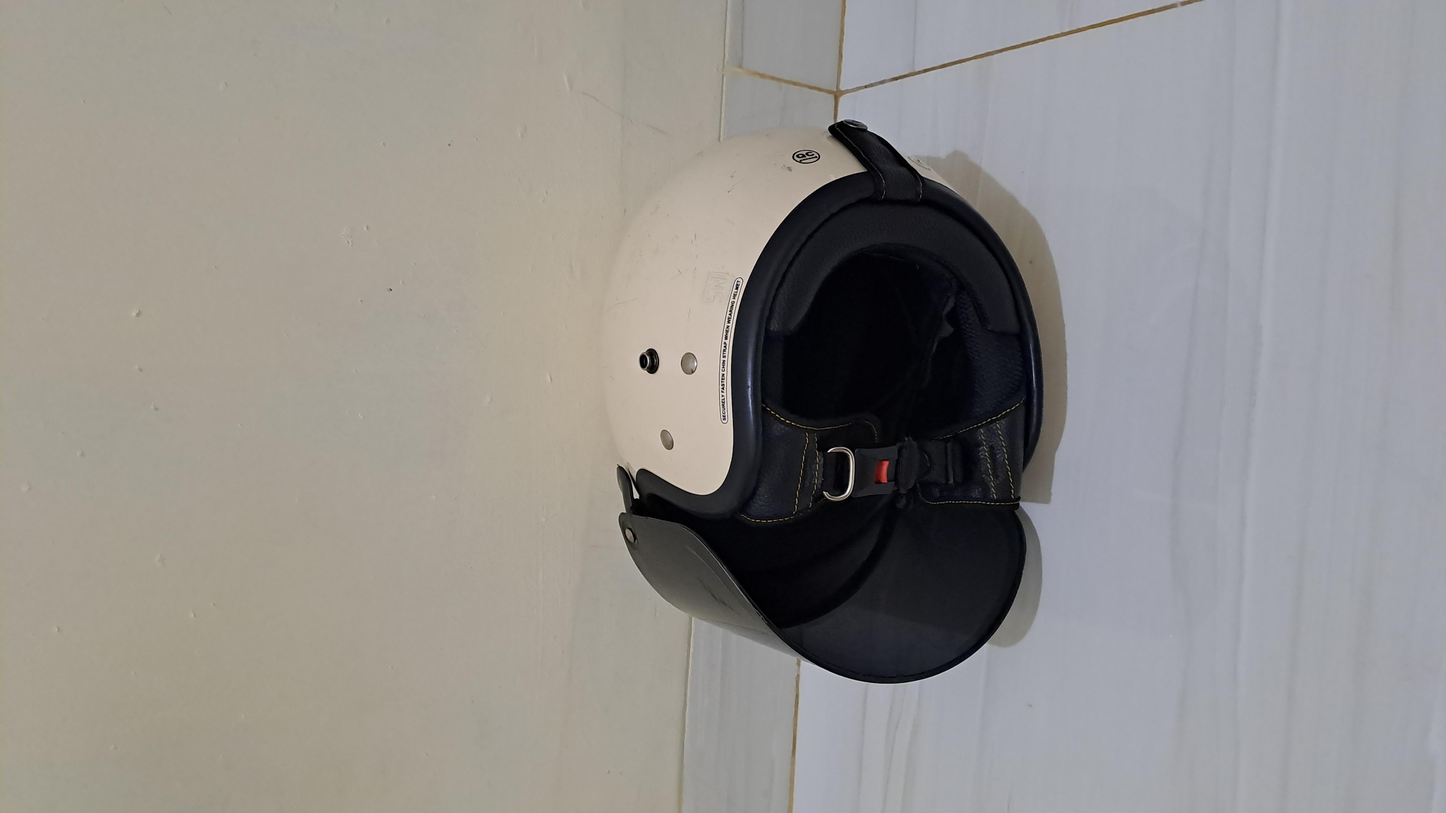helmet: (234, 322, 1258, 596)
